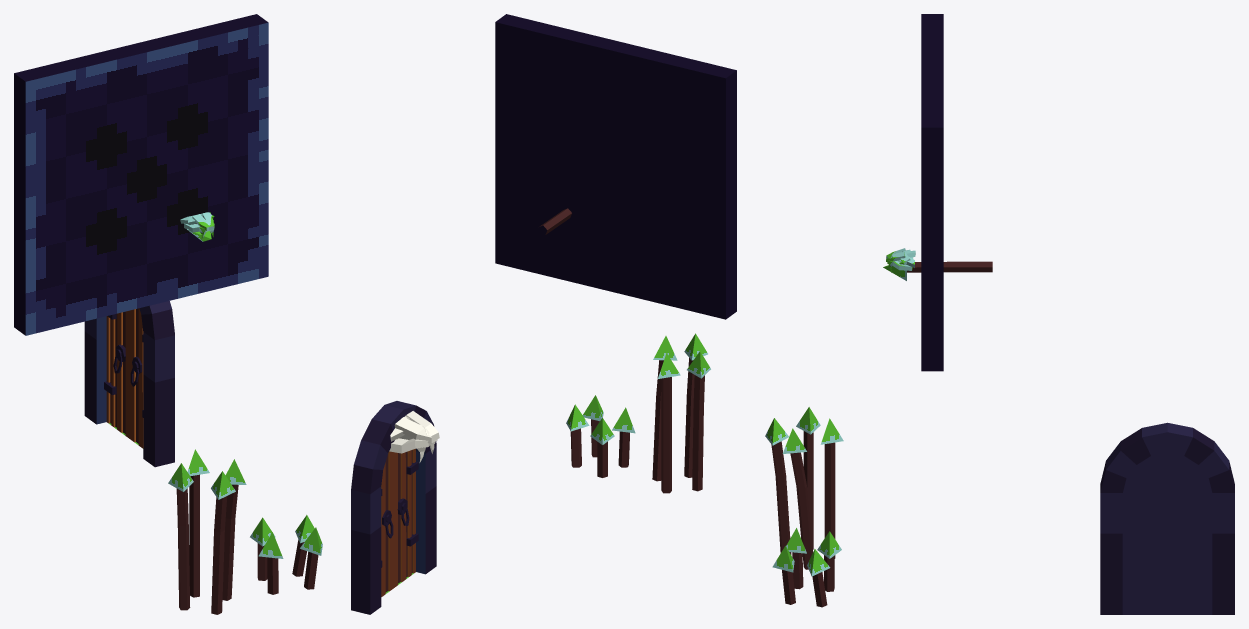
Rendered from Gridmap_Infrastructure.glb.
3 renders of one model, left to right at view 1: azimuth 30°, elevation 25°; view 2: azimuth 150°, elevation 25°; view 3: azimuth 270°, elevation 25°, orthographic. The views are drawn at different scales.
Parts seen in each view (by area): view 1: Arrow_Trap-col, Door-col, Tall_Spikes-col, Short_Spikes-col, Arrow-col; view 2: Arrow_Trap-col, Door-col, Tall_Spikes-col, Short_Spikes-col; view 3: Door-col, Arrow_Trap-col, Tall_Spikes-col, Short_Spikes-col, Arrow-col.
Part boxes in pixels (x1,y1,x2,y2): Arrow_Trap-col: (14, 14, 268, 335); Door-col: (84, 301, 174, 467); Tall_Spikes-col: (168, 449, 246, 614); Short_Spikes-col: (250, 515, 322, 594); Arrow-col: (180, 212, 214, 241); Arrow_Trap-col: (495, 14, 736, 319); Door-col: (351, 401, 439, 614); Tall_Spikes-col: (652, 333, 710, 493); Short_Spikes-col: (566, 395, 635, 477); Door-col: (1100, 422, 1234, 614); Arrow_Trap-col: (921, 14, 943, 371); Tall_Spikes-col: (765, 407, 843, 569); Short_Spikes-col: (772, 528, 841, 607); Arrow-col: (883, 248, 992, 280).
Size of the model in its own units: 6 by 12.02 by 10.48.
Materials: 1 (1 with a texture image).
